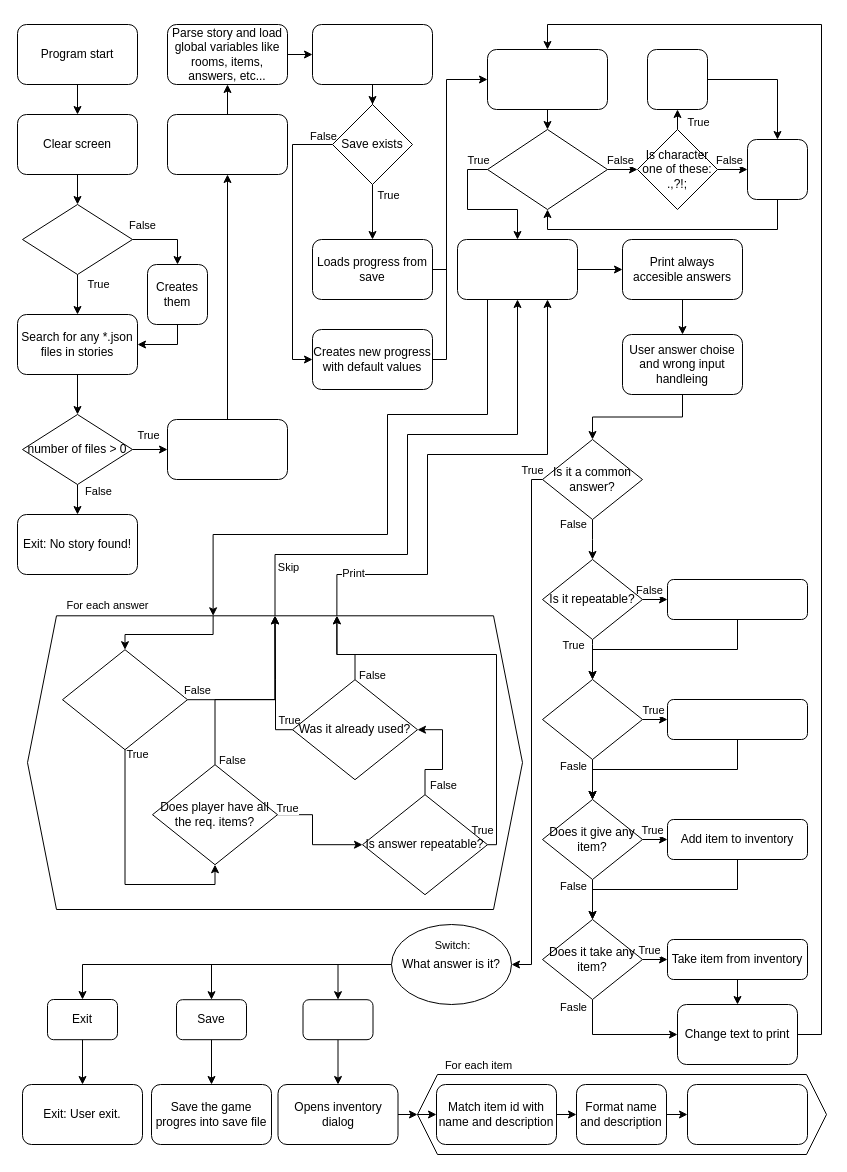
The diagram is 847 pixels wide and 1172 high, and some of its shapes have lost their labels. Each missing label, with the centre of its shape:
Add to used: [737,599]
Asks what story to load and wrong input handleing: [227,449]
Does it show any room?: [592,719]
if folders "stories" and "saves" exists: [77,239]
Inventory: [337,1019]
Is answer visible?: [125,699]
Letter by letter printing done?: [547,169]
Loads save id from story and looks for save file: [372,54]
Print formatted text: [747,1114]
Print possible answers: [517,269]
Set room to visible: [737,719]
Start story printing: [547,79]
Story builder: [227,144]
Wait 260ms: [677,79]
Wait 40ms: [777,169]
